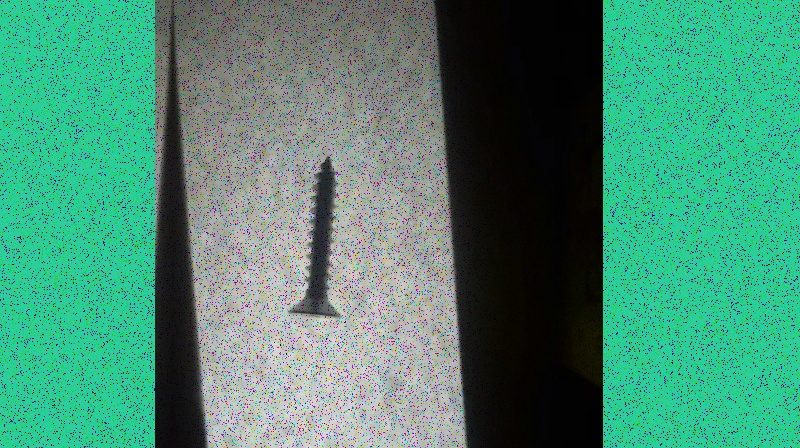S001: (288, 152, 347, 320)
